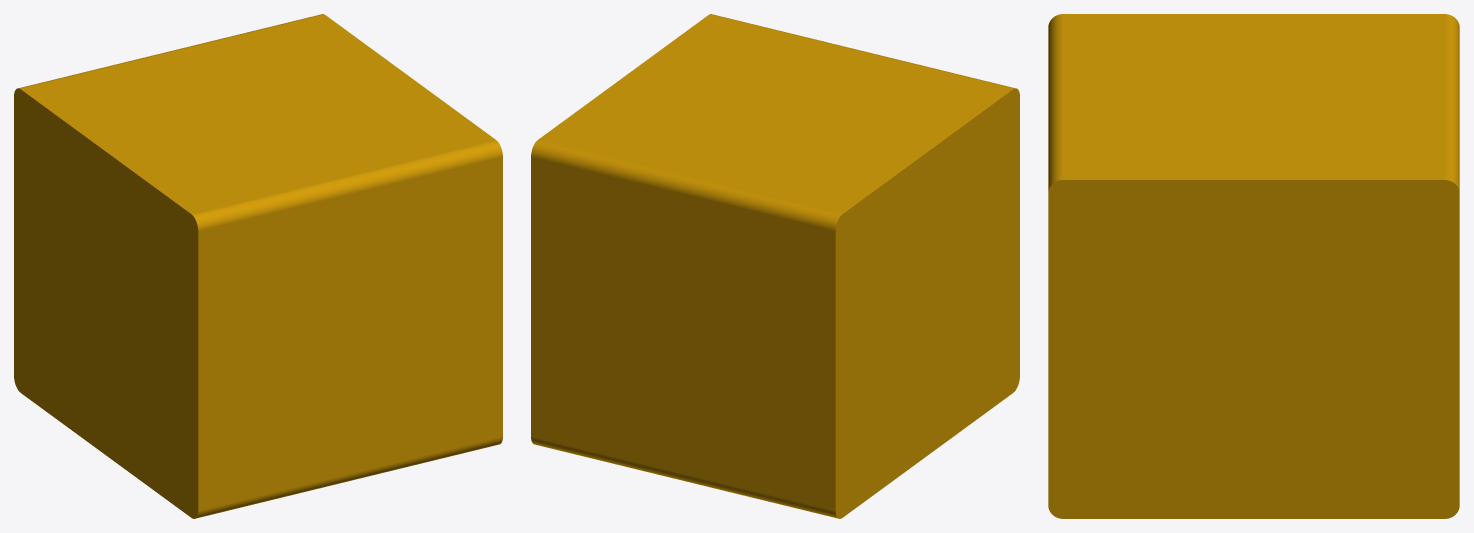
File: body.gltf
3 views of the same model, side by side, from view 1: azimuth 30°, elevation 25°; view 2: azimuth 150°, elevation 25°; view 3: azimuth 270°, elevation 25° (orthographic). The views are drawn at different scales.
Parts seen in each view (by area): view 1: mesh89324, mesh89326, mesh89322, mesh89323, mesh89325, mesh89321; view 2: mesh89330, mesh89326, mesh89322, mesh89321, mesh89328, mesh89323; view 3: mesh89327, mesh89322, mesh89321, mesh89323.
Boxes of the visible parts, x1,y1,x2,y2 form: mesh89324: [198, 157, 502, 510]; mesh89326: [14, 88, 198, 518]; mesh89322: [21, 15, 495, 214]; mesh89323: [192, 140, 502, 231]; mesh89325: [196, 436, 502, 518]; mesh89321: [19, 14, 324, 89]; mesh89330: [531, 157, 835, 510]; mesh89326: [835, 88, 1019, 518]; mesh89322: [538, 15, 1012, 214]; mesh89321: [531, 140, 841, 231]; mesh89328: [531, 436, 837, 518]; mesh89323: [709, 14, 1014, 89]; mesh89327: [1048, 180, 1459, 518]; mesh89322: [1063, 14, 1444, 179]; mesh89321: [1444, 14, 1459, 190]; mesh89323: [1048, 14, 1063, 190].
Size of the model in its own units: 0.000525 by 0.0005 by 0.00055.
